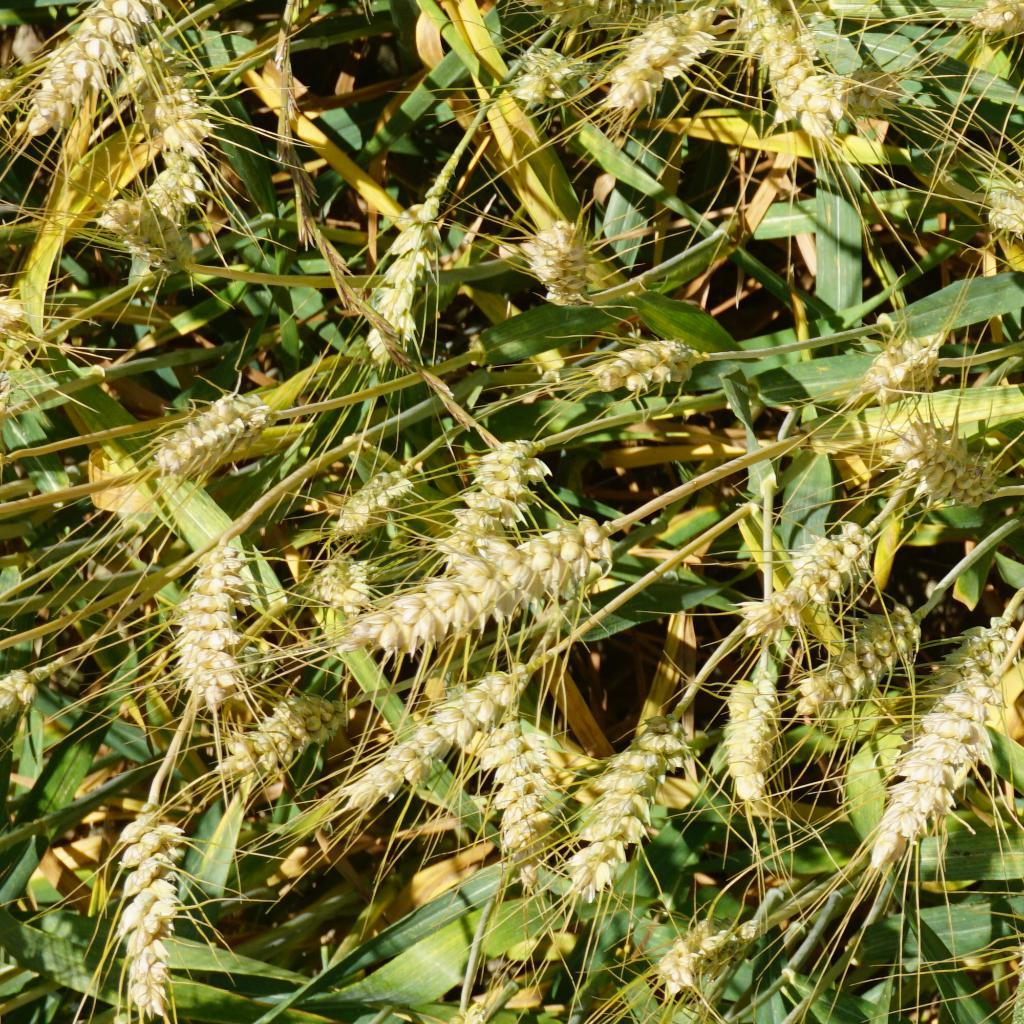0-0: (880, 671, 1020, 857), (362, 536, 603, 644), (349, 692, 515, 803), (15, 0, 157, 124), (567, 732, 665, 890), (115, 804, 180, 1014), (351, 211, 439, 342), (712, 669, 793, 809), (172, 540, 239, 708), (751, 528, 861, 625), (813, 607, 918, 707), (600, 18, 713, 109), (486, 713, 556, 848), (786, 56, 892, 142), (129, 45, 214, 149), (157, 385, 259, 466), (927, 612, 1024, 695), (228, 688, 321, 772), (901, 436, 1002, 513), (452, 449, 534, 543), (746, 0, 823, 93), (98, 155, 199, 223), (528, 224, 607, 310), (588, 334, 702, 392), (115, 192, 203, 264), (339, 470, 416, 550), (510, 35, 583, 118), (661, 921, 732, 1002), (868, 324, 947, 393), (0, 668, 58, 728), (315, 556, 372, 607), (982, 173, 1024, 240), (985, 0, 1024, 29)
